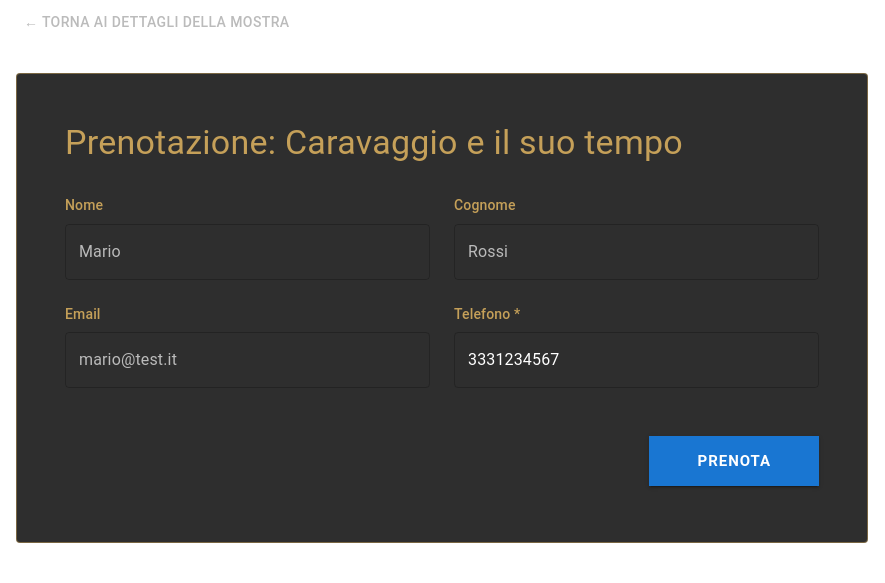
Test: FormPrenotazione › propone il telefono dell'account e controlla quello inserito
expect the button "PRENOTA" is enabled: met, box [650,436,819,486]
Replace the text in the field named "Telefono" with "12ab" at (636, 360), box [454,332,819,388]
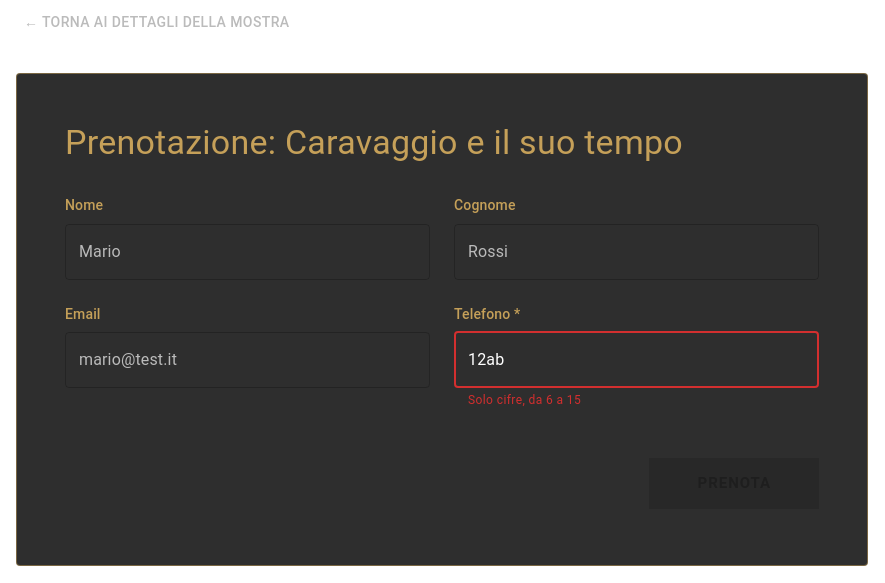
expect the text "Solo cifre, da 6 a 15" is shown: met, box [468,392,581,406]
